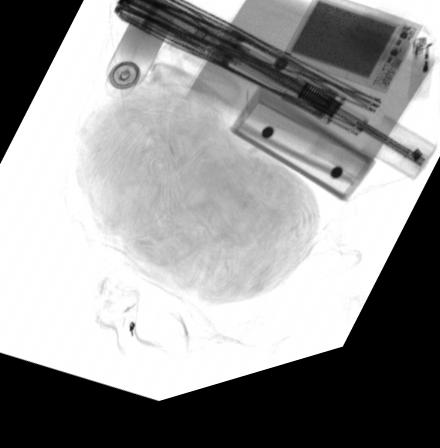Lighter: (407, 62, 433, 125)
Powerbank: (283, 9, 422, 116)
Sprayer: (105, 12, 175, 106)
